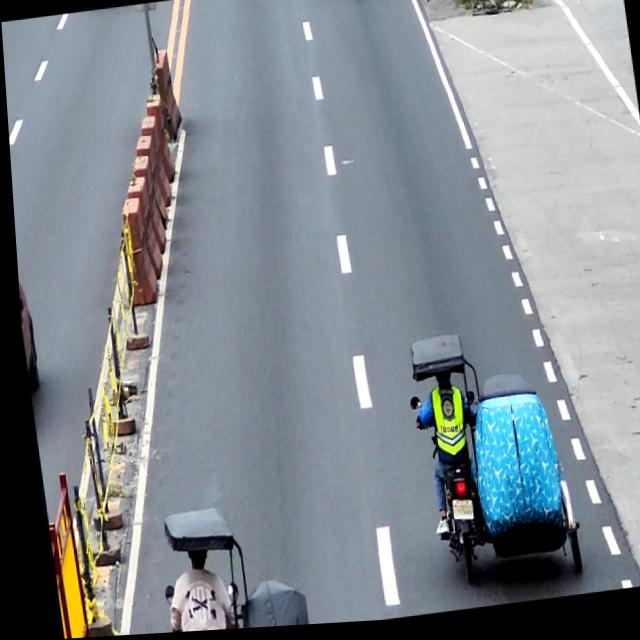License-Plate: (443, 501, 466, 526)
Tricycle: (397, 328, 578, 596), (145, 500, 300, 635)
